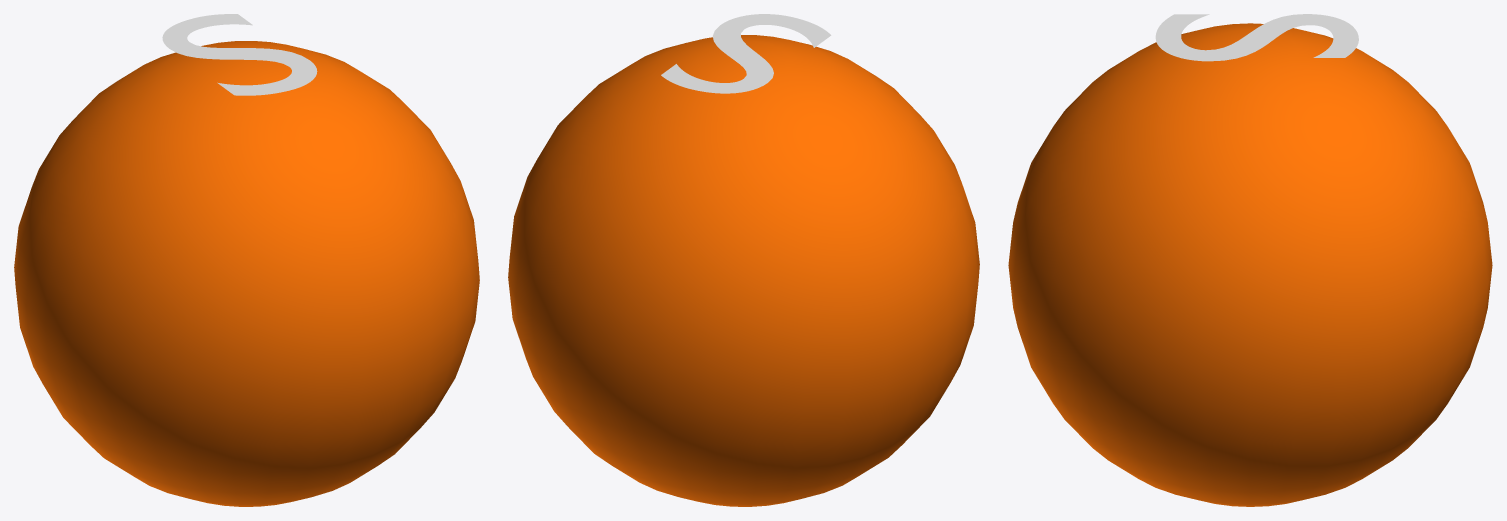
3 views of the same model, side by side, from view 1: azimuth 30°, elevation 25°; view 2: azimuth 150°, elevation 25°; view 3: azimuth 270°, elevation 25° (orthographic). The views are drawn at different scales.
Parts seen in each view (by area): view 1: 구체, 텍스트; view 2: 구체, 텍스트; view 3: 구체, 텍스트.
Boxes of the visible parts, x1=… form: 구체: x1=14, y1=41, x2=479, y2=506; 텍스트: x1=162, y1=14, x2=317, y2=95; 구체: x1=508, y1=35, x2=979, y2=506; 텍스트: x1=661, y1=14, x2=831, y2=93; 구체: x1=1008, y1=23, x2=1492, y2=506; 텍스트: x1=1155, y1=14, x2=1358, y2=61.
Bounding box in the file's own units: 250 × 254 × 250.
